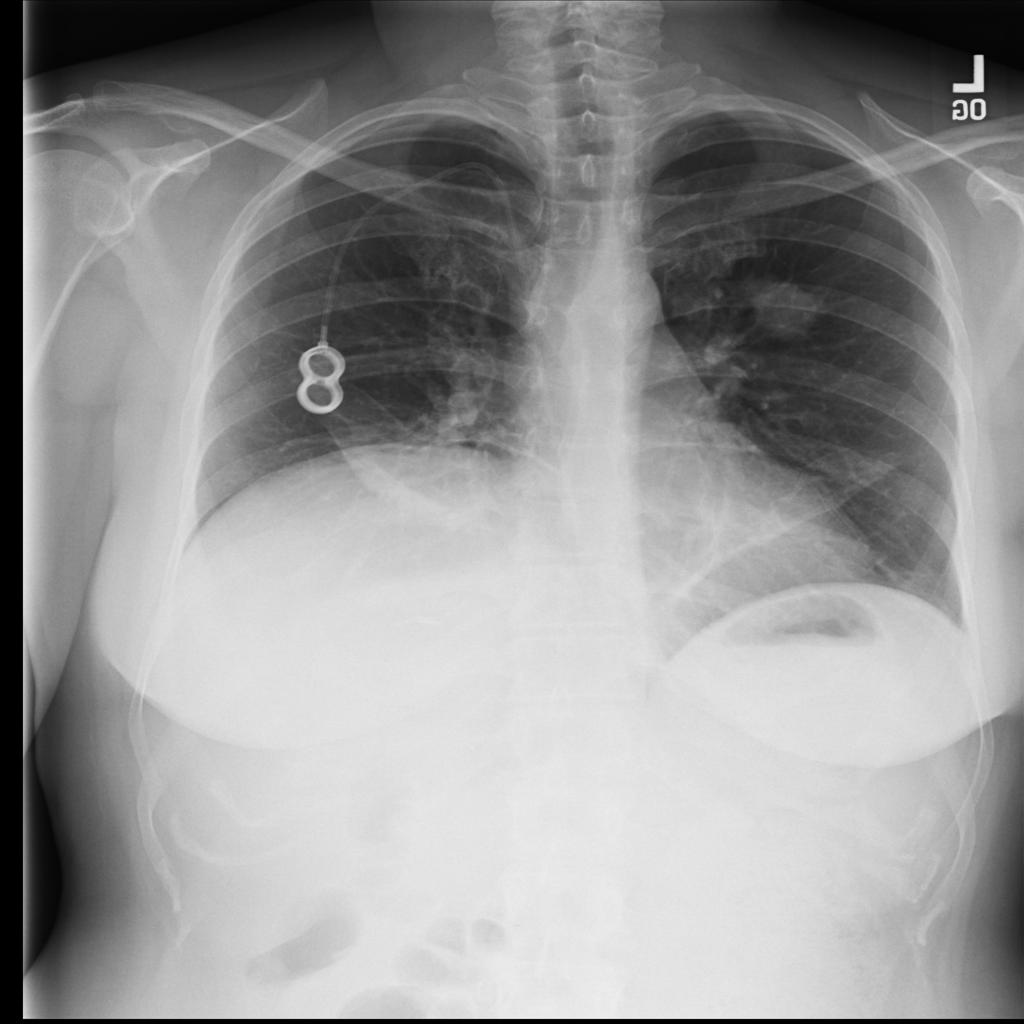nodule: (724, 255, 846, 357)
